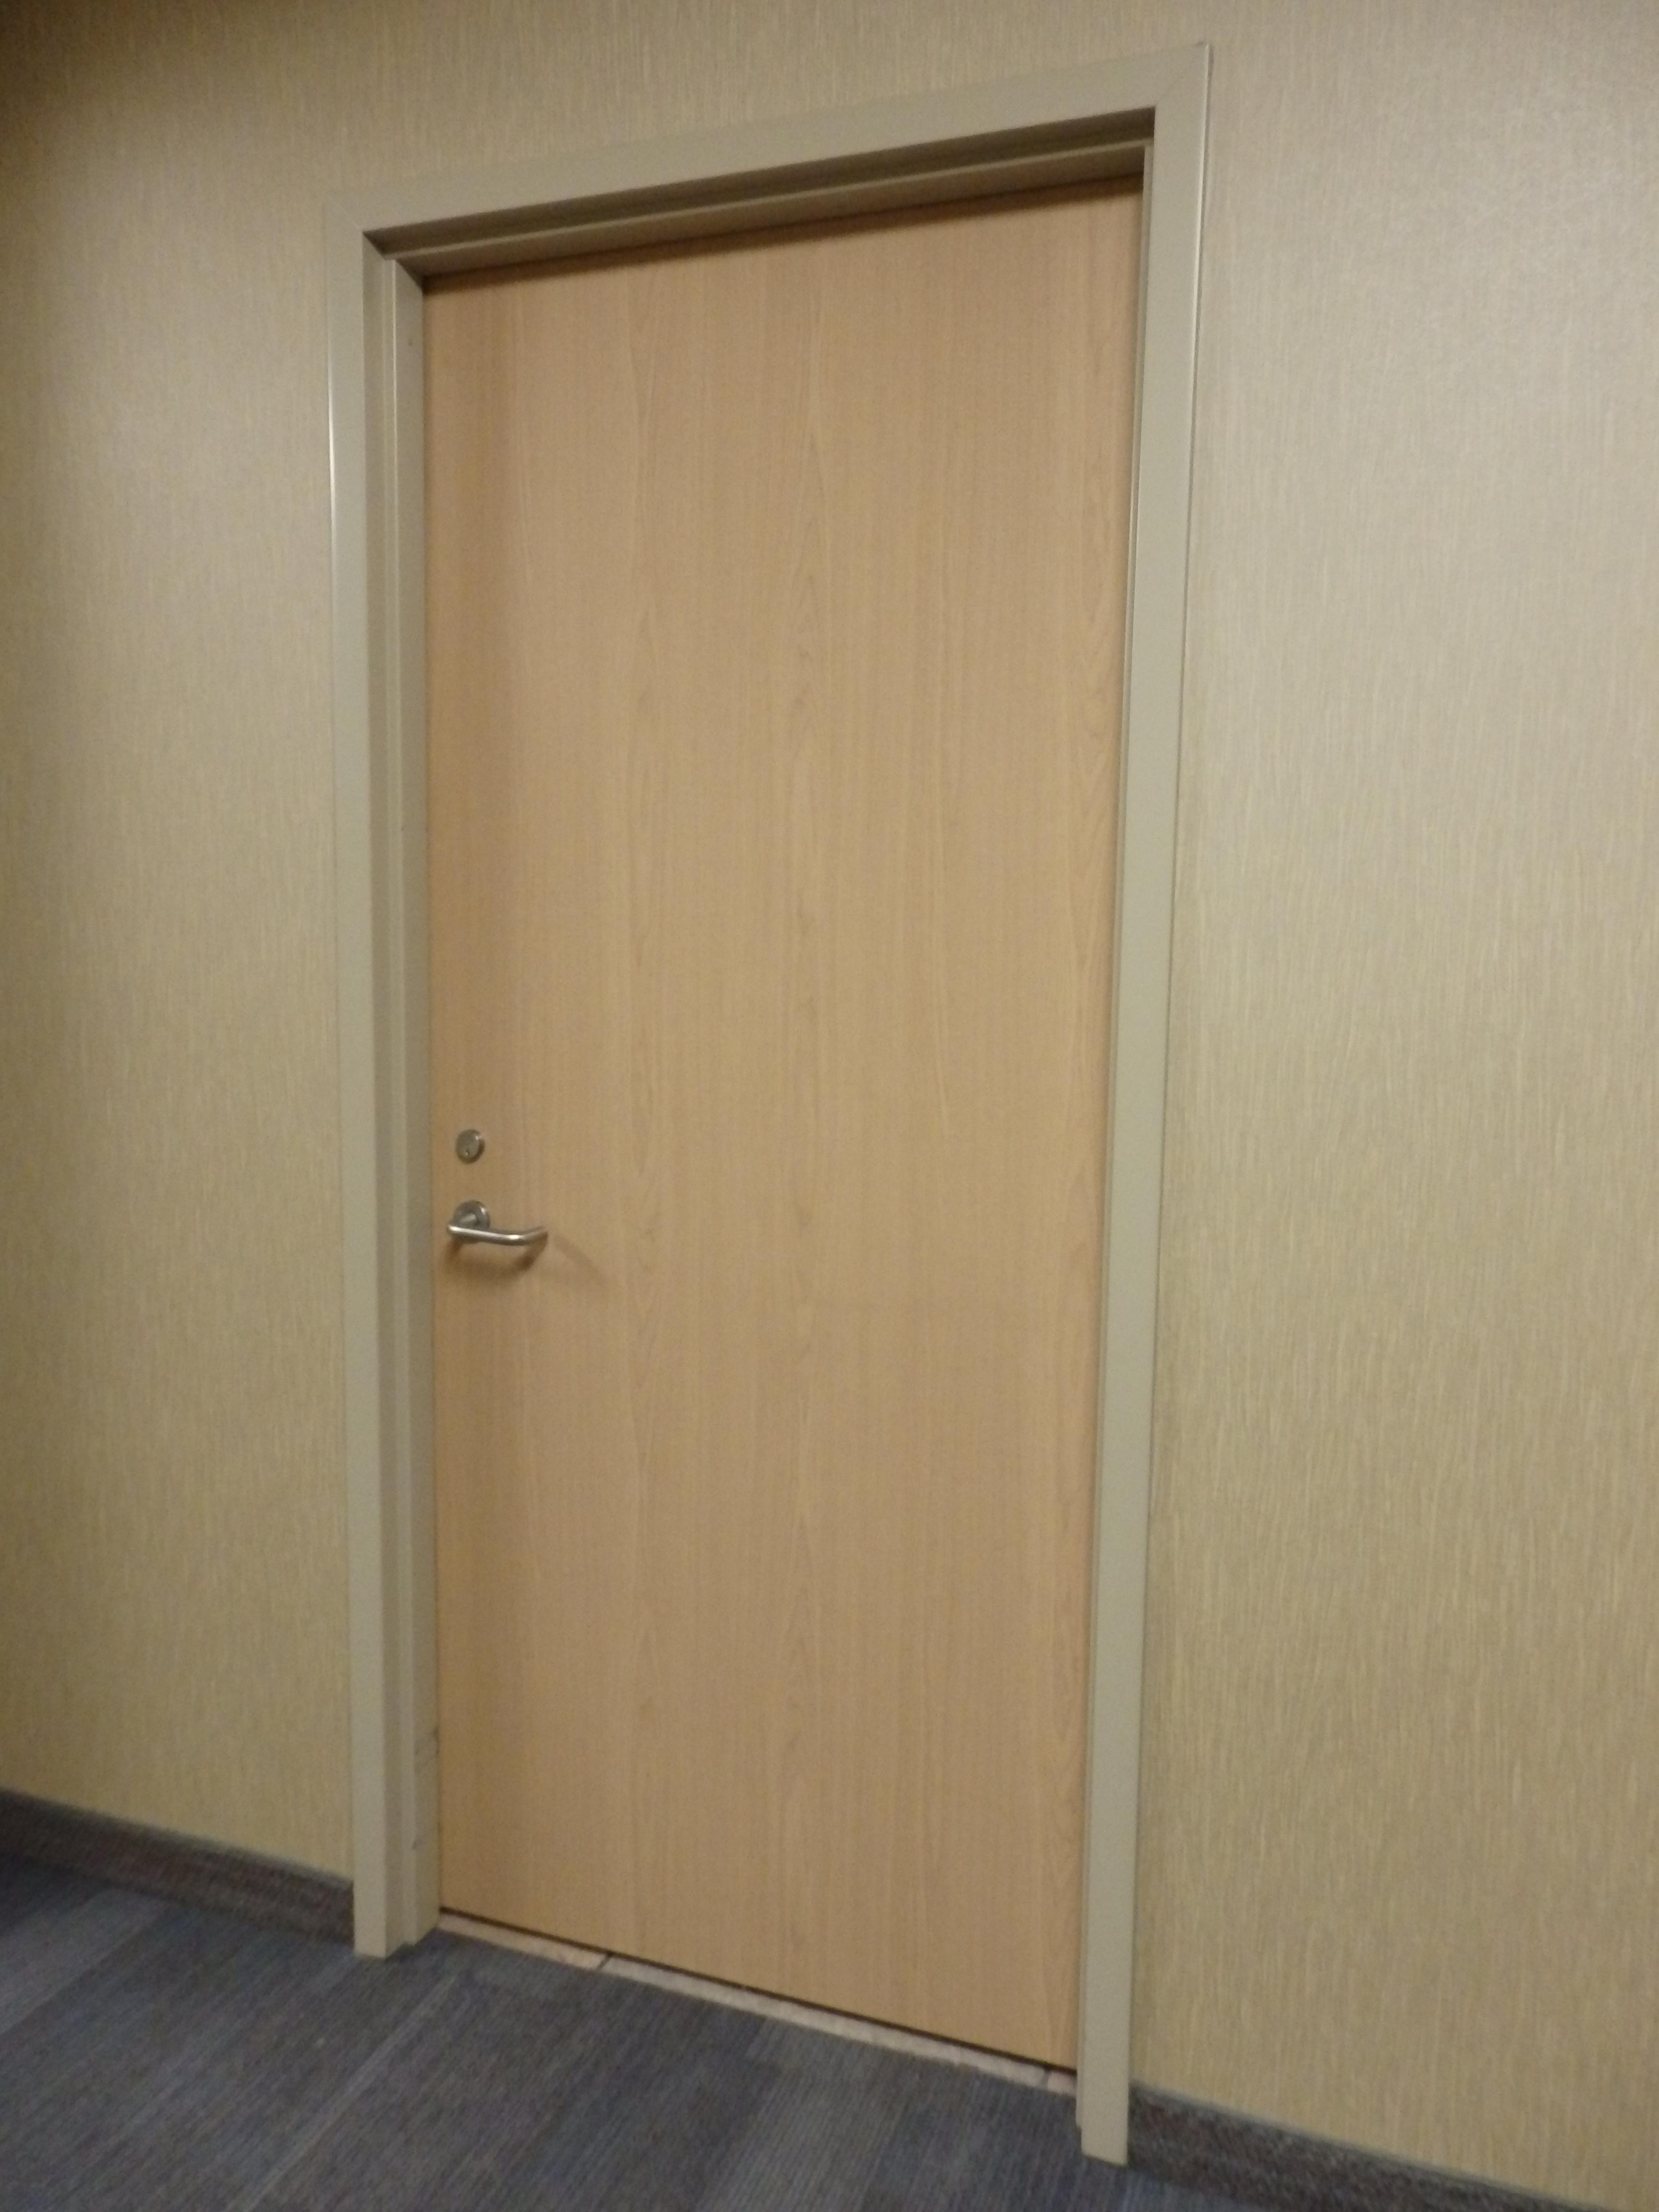door: (317, 45, 1211, 2163)
